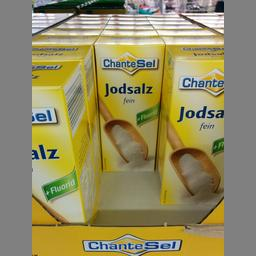spices: (157, 38, 224, 204), (30, 60, 92, 222), (92, 30, 162, 172)
